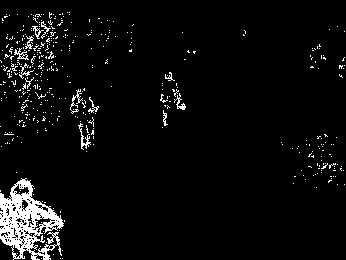person: (1, 177, 66, 260), (68, 87, 103, 155), (161, 69, 186, 129)
